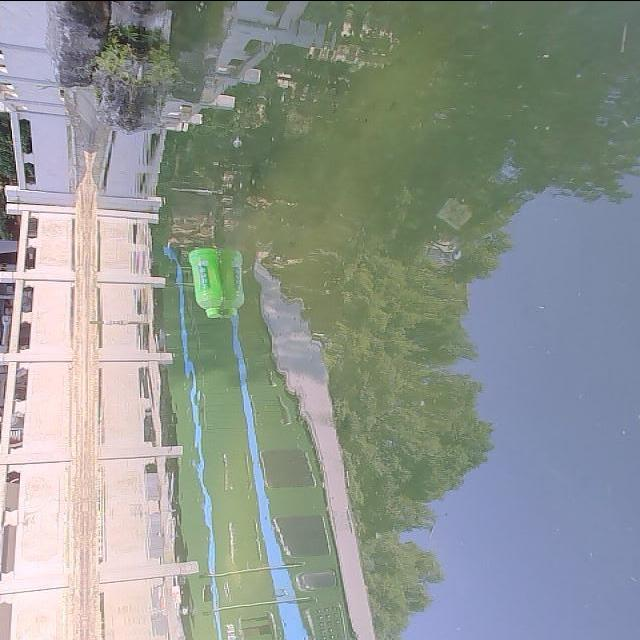Bottle: (183, 240, 231, 324)
